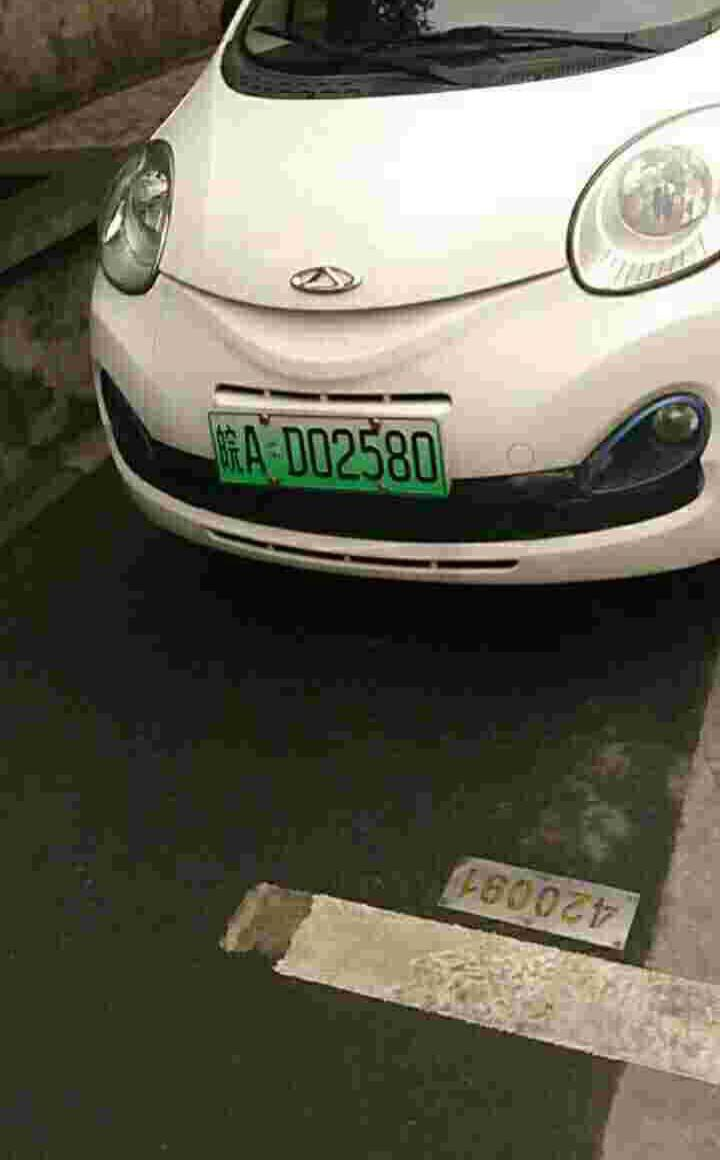car_id: (204, 411, 447, 496)
